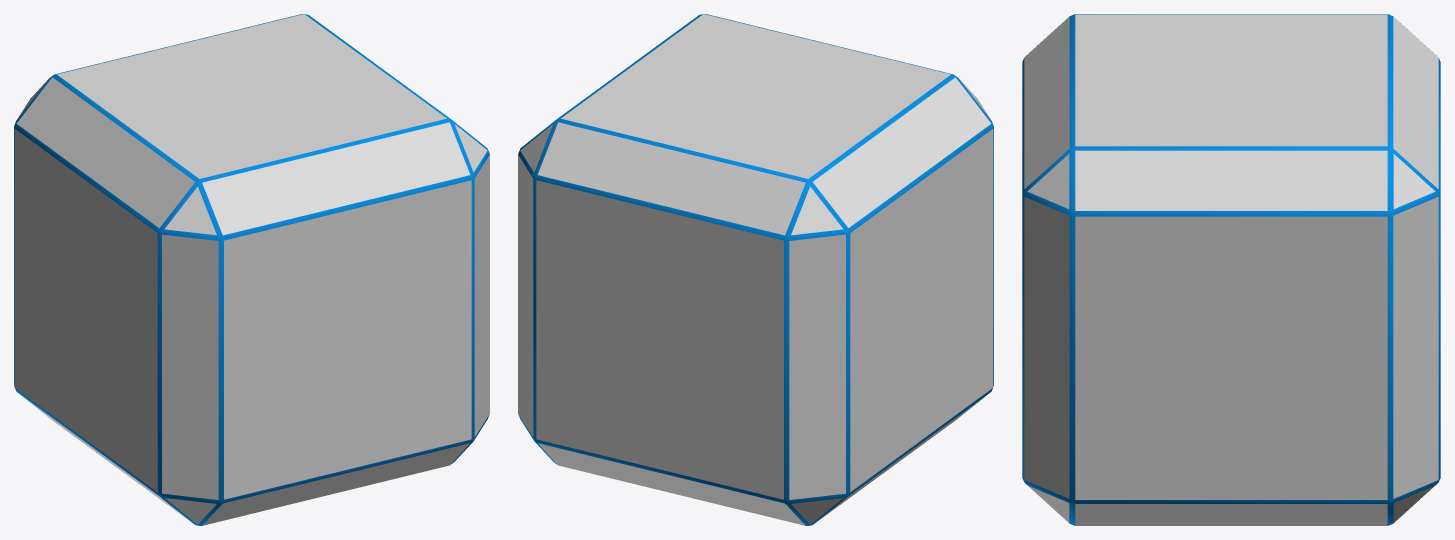
The model's file is reveledblock.fbx.
The picture shows the model from 3 angles, left to right: view 1: azimuth 30°, elevation 25°; view 2: azimuth 150°, elevation 25°; view 3: azimuth 270°, elevation 25°; orthographic projection. The views are drawn at different scales.
Visible parts, largest first — view 1: Cube.001; view 2: Cube.001; view 3: Cube.001.
Boxes of the visible parts, x1=… form: Cube.001: x1=14, y1=14, x2=489, y2=525; Cube.001: x1=518, y1=14, x2=993, y2=525; Cube.001: x1=1022, y1=14, x2=1440, y2=525.
Size of the model in its own units: 200 by 200 by 200.
